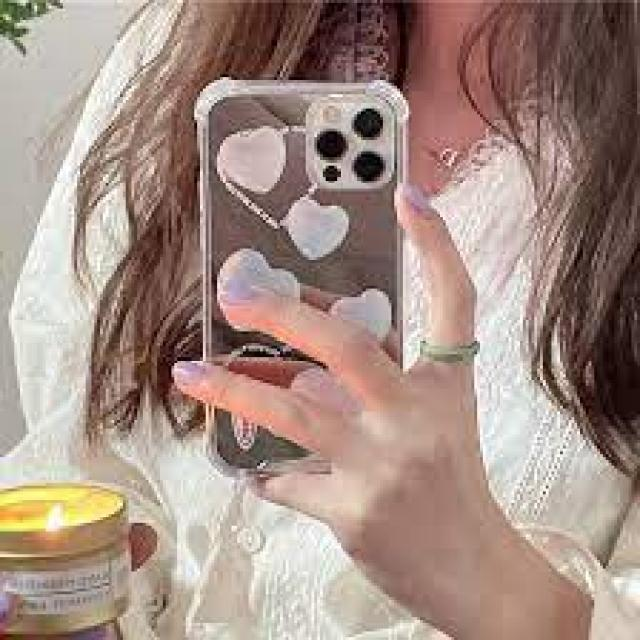Phone: (194, 76, 414, 482)
